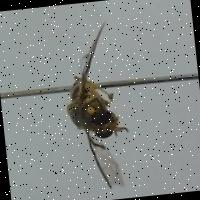Oriental-fruit-fly: (50, 17, 148, 198)
